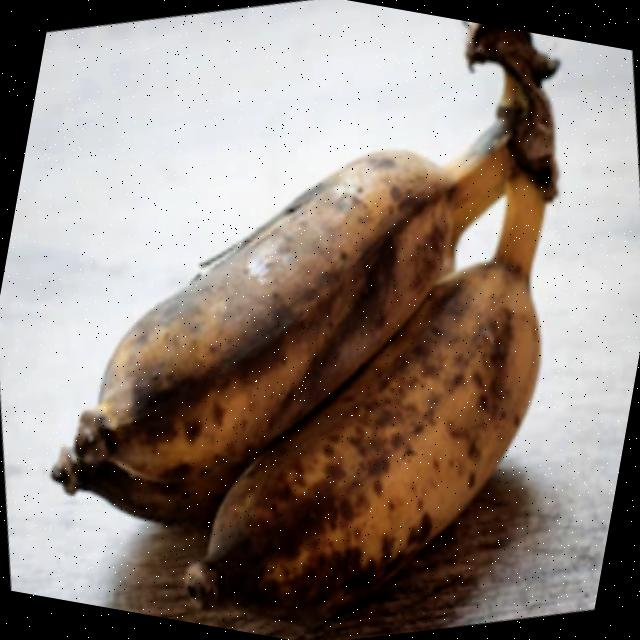rotten banana: (36, 61, 482, 564), (156, 175, 593, 640)
